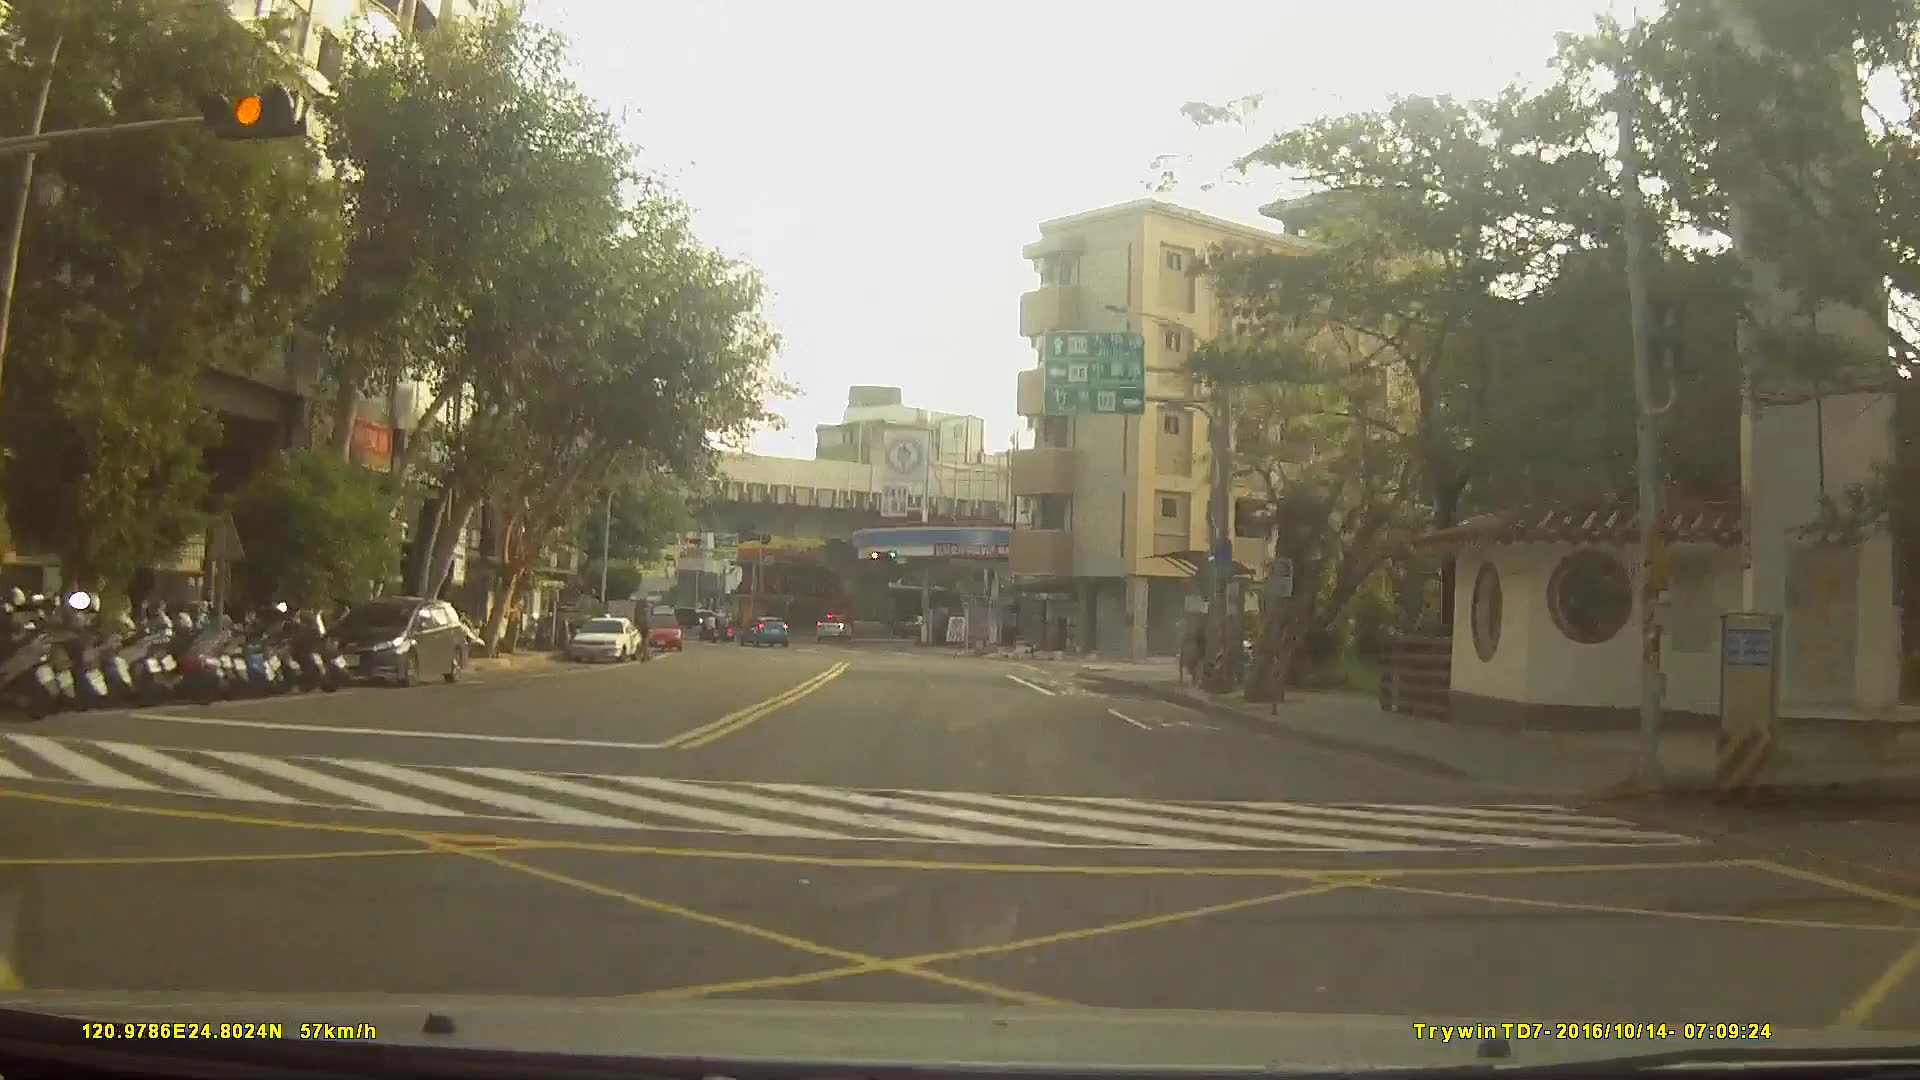rider: (697, 614, 721, 648)
vehicle: (319, 595, 471, 690), (566, 613, 641, 663), (640, 610, 683, 650), (738, 615, 787, 647), (814, 614, 853, 642)
